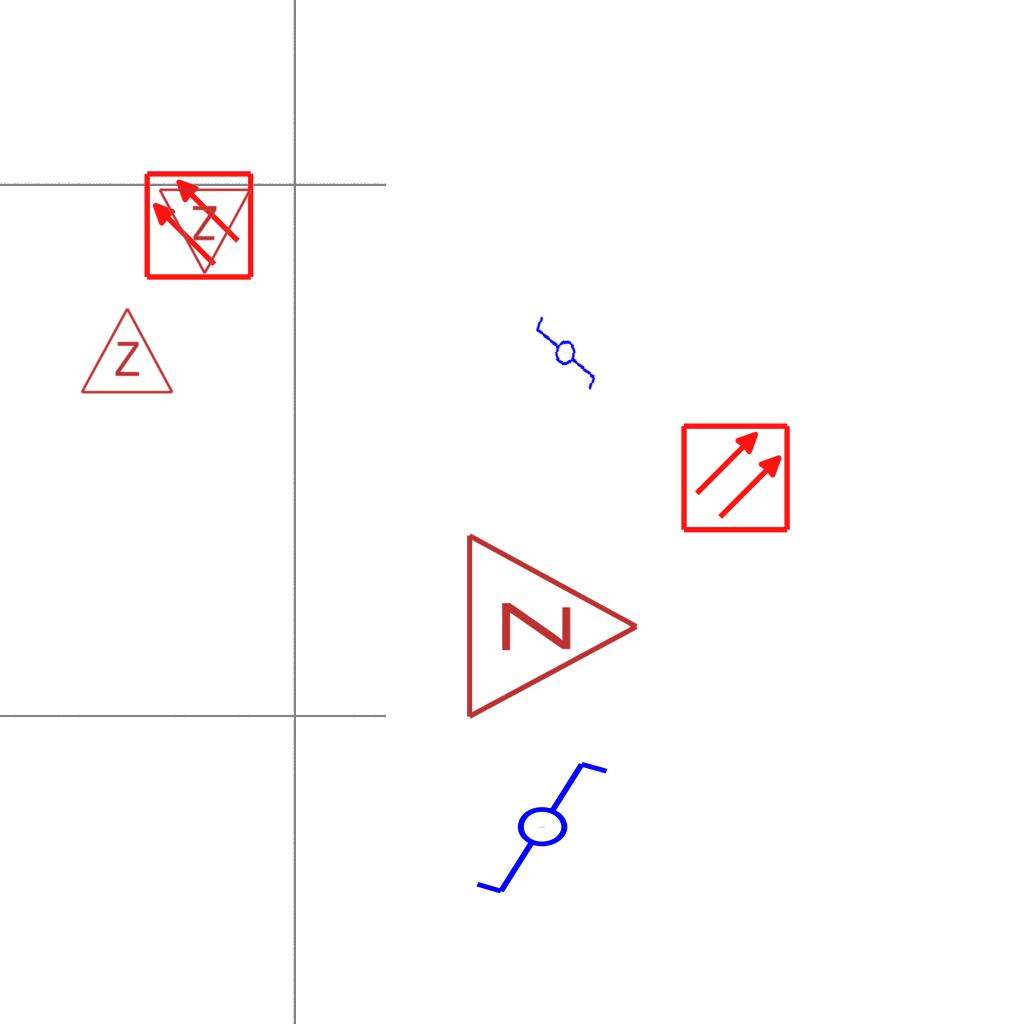RMO_Rauchmelder_optischer: (679, 421, 792, 534), (142, 169, 255, 282)
Wechselschalter: (472, 757, 629, 901), (525, 305, 609, 393)
Zimmersignalleuchte: (452, 526, 652, 722), (77, 301, 175, 401), (157, 181, 255, 281)
